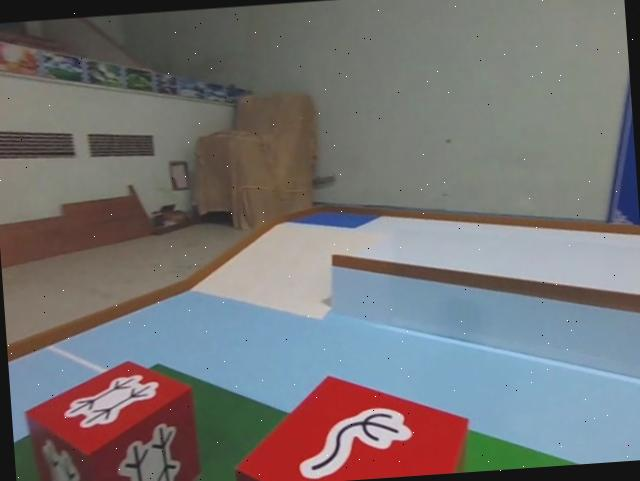R2 Real: (228, 365, 468, 481), (20, 352, 204, 481)
